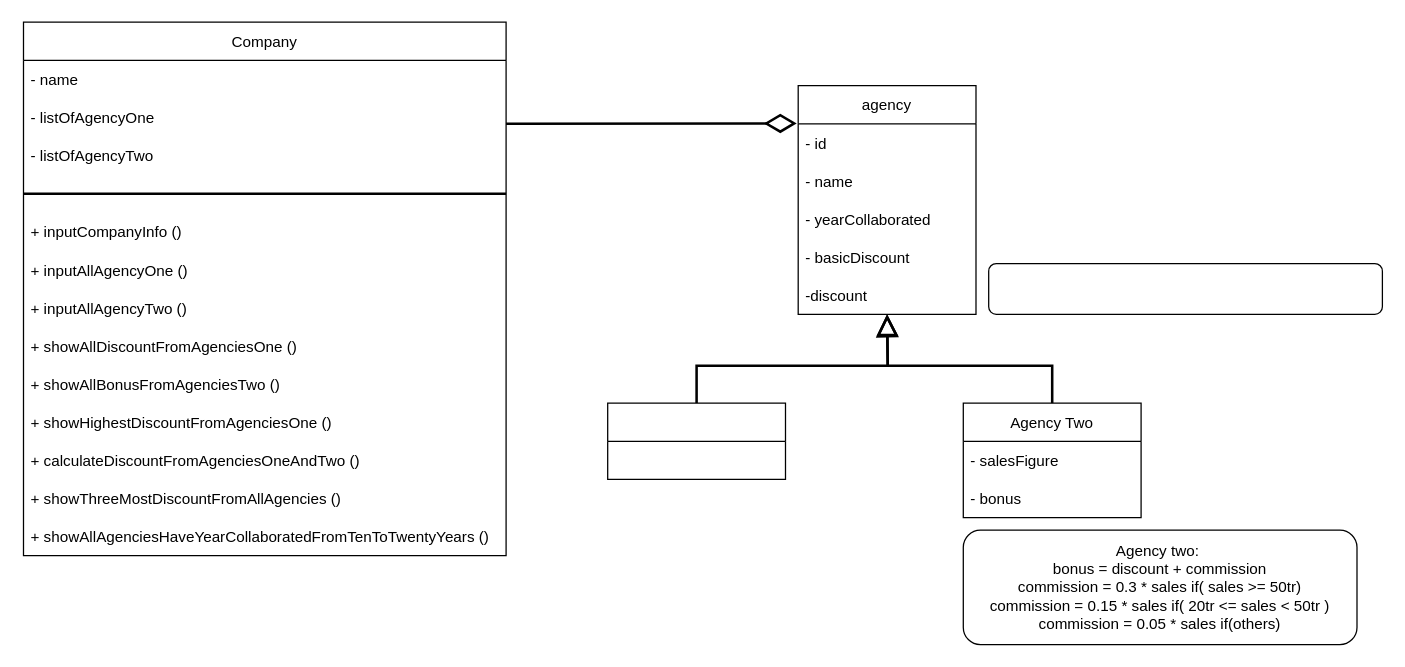
The diagram is 1405 pixels wide and 667 high, and some of its shapes have lost their labels. The centre of each missing label's shape, as x and y in pixels:
Agency One: [695,440]
Agency one, two: discount = basicDiscount * yearCollaborated * 0.2: [1184,288]
